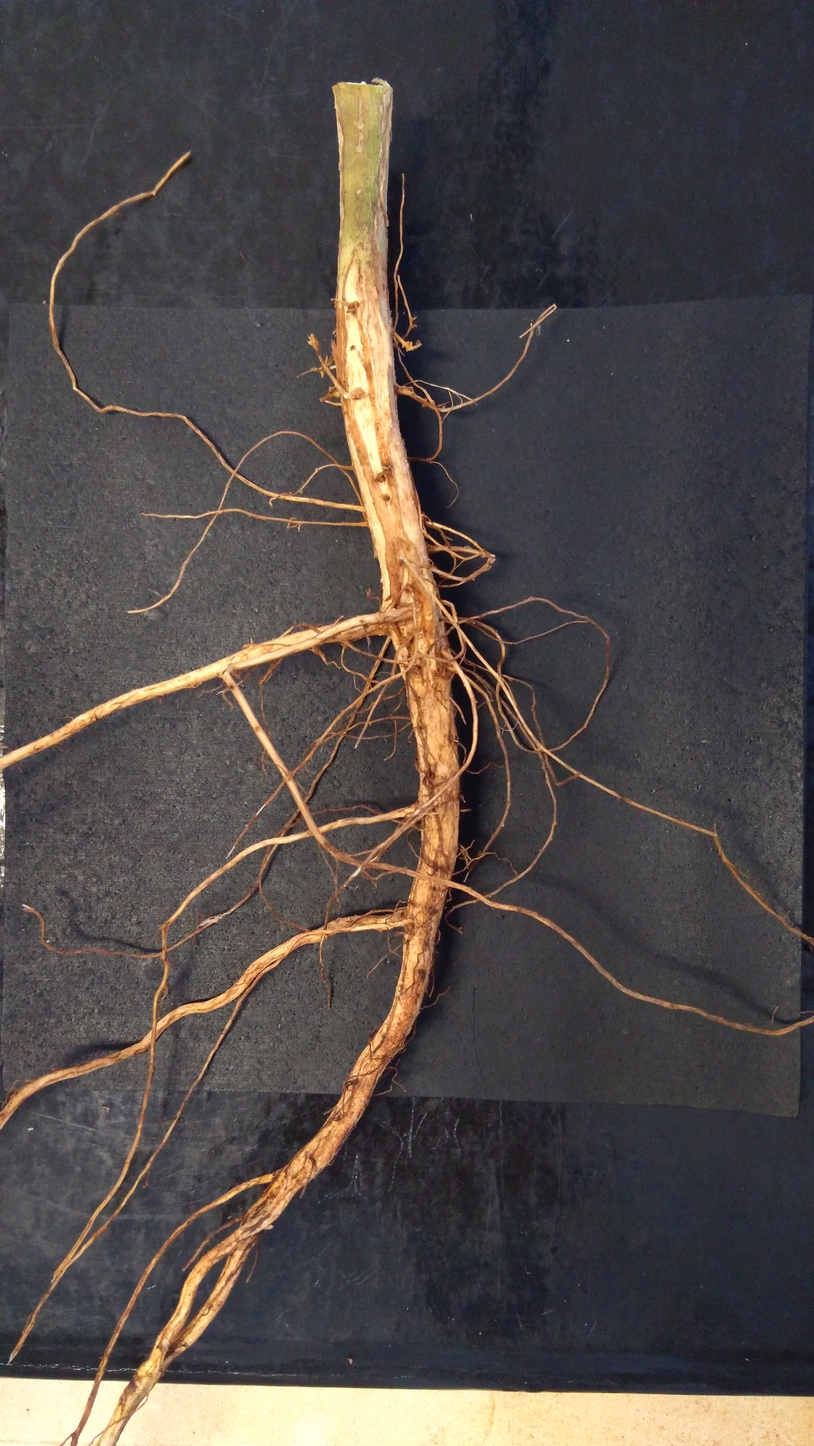nodule: (350, 387, 363, 400), (328, 386, 333, 393), (472, 621, 476, 625)
